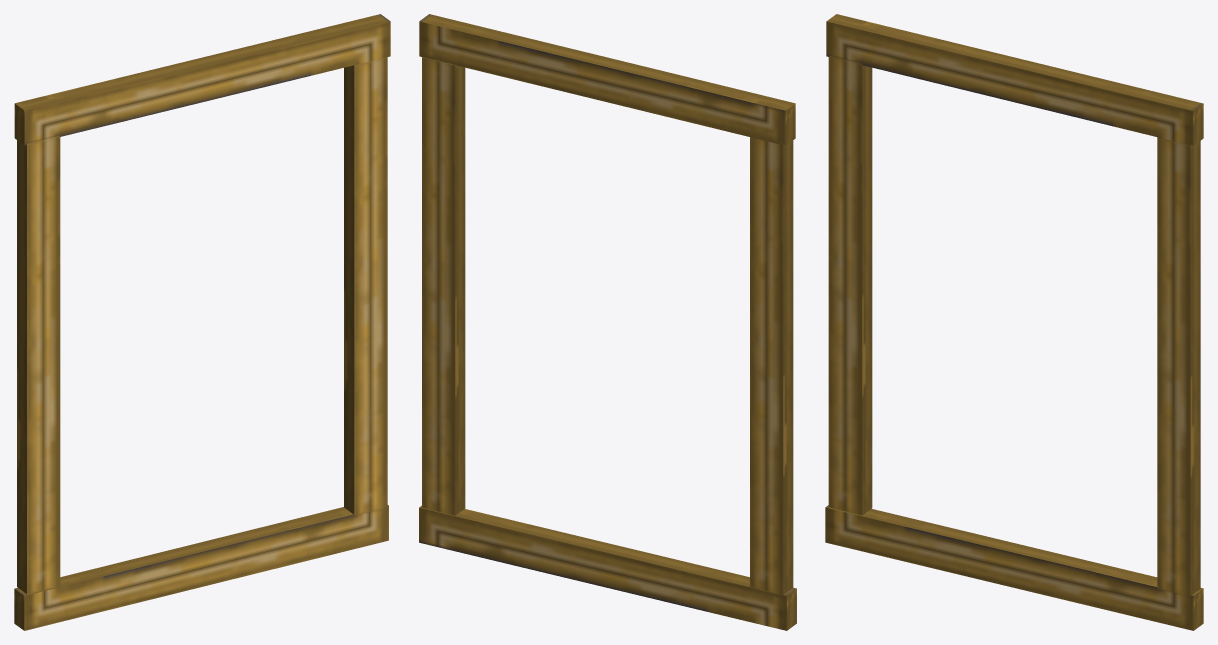
File: goldenFrame.fbx
3 views of the same model, side by side, from view 1: azimuth 30°, elevation 25°; view 2: azimuth 150°, elevation 25°; view 3: azimuth 330°, elevation 25° (orthographic).
Visible parts, largest first — view 1: pCube11.001; view 2: pCube11.001; view 3: pCube11.001.
Boxes of the visible parts, left/top/right/bottom form: pCube11.001: left=14, top=14, right=390, bottom=630; pCube11.001: left=419, top=14, right=796, bottom=630; pCube11.001: left=825, top=14, right=1203, bottom=630.
Bounding box in the file's own units: 708 × 959 × 38.86.
